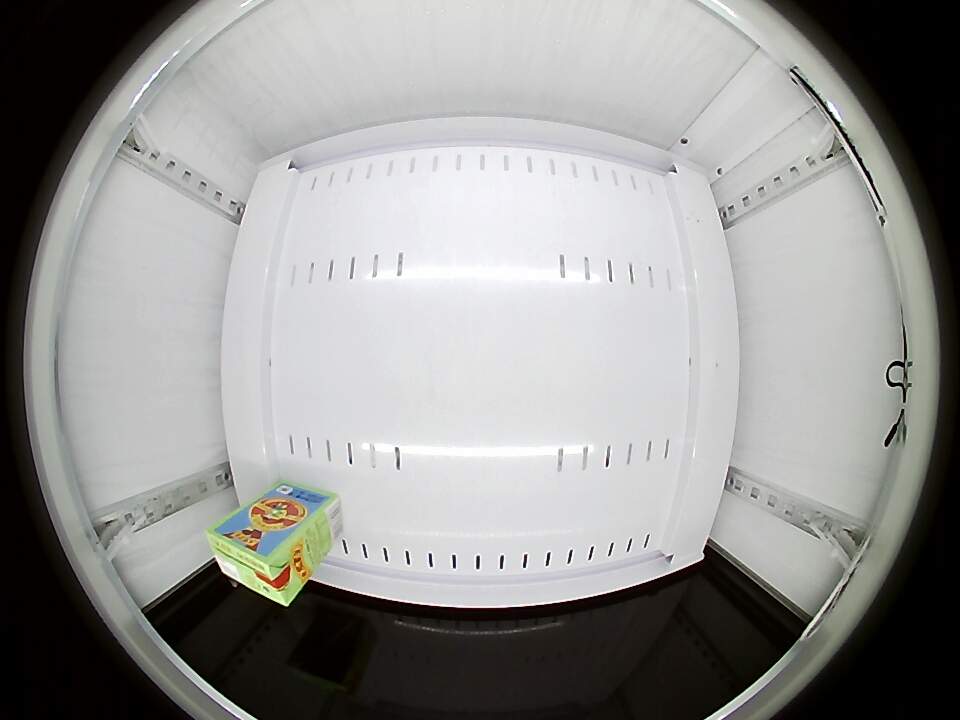wanglaoji: (206, 515, 306, 607)
